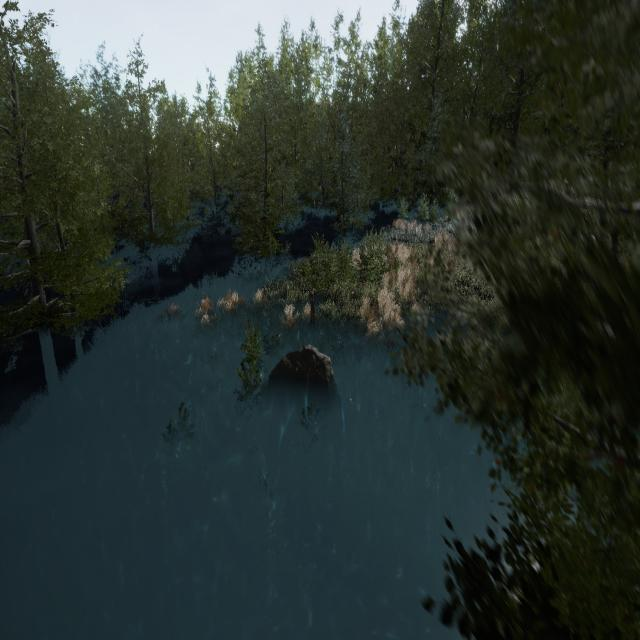Human: (303, 286, 322, 335)
